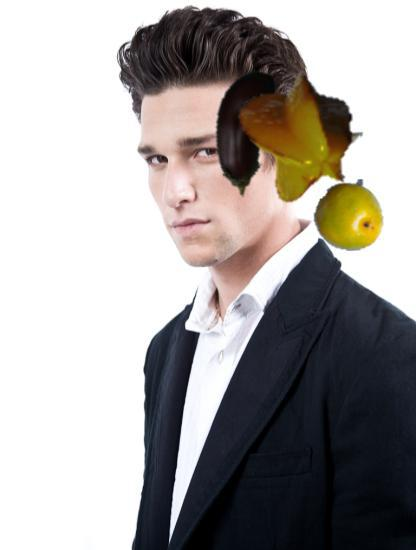Carambula: (235, 70, 369, 204)
Eggplant: (177, 66, 307, 196)
Maracuja: (313, 180, 384, 251)
